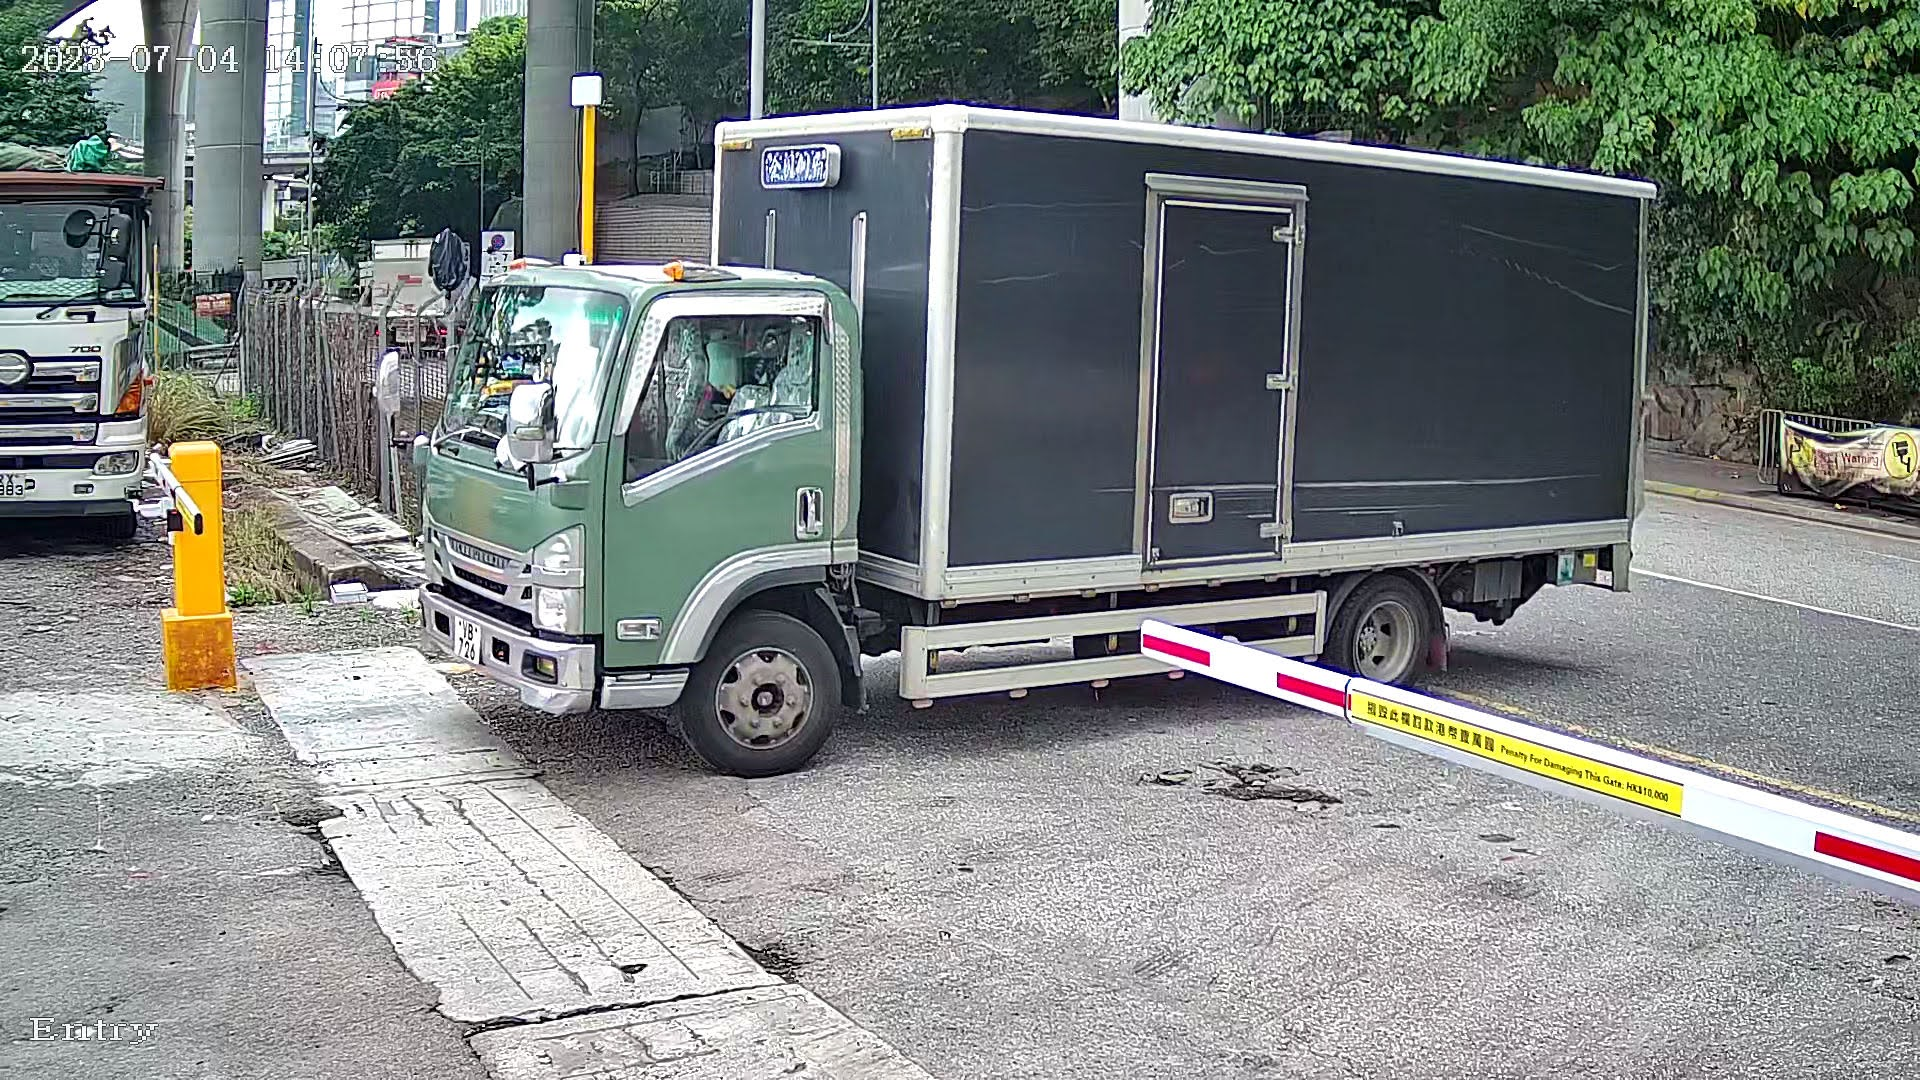truck_small: (423, 96, 1677, 781)
